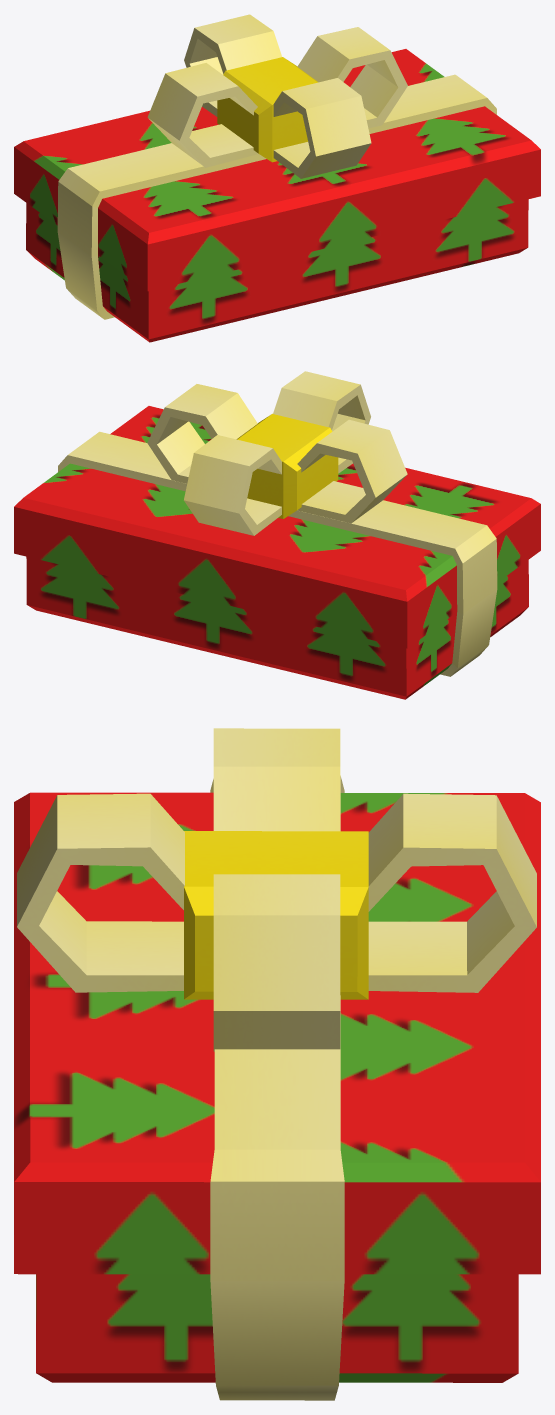
The picture shows the model from 3 angles, top to bottom: view 1: azimuth 30°, elevation 25°; view 2: azimuth 150°, elevation 25°; view 3: azimuth 270°, elevation 25°; orthographic projection. The views are drawn at different scales.
Visible parts, largest first — view 1: smMAT0110023; view 2: smMAT0110023; view 3: smMAT0110023.
Part boxes in pixels (x1,y1,x2,y2): smMAT0110023: [14, 14, 540, 342]; smMAT0110023: [14, 371, 540, 699]; smMAT0110023: [14, 728, 540, 1400].
Size of the model in its own units: 73.24 by 35.11 by 41.82.
Materials: 1 (1 with a texture image).
